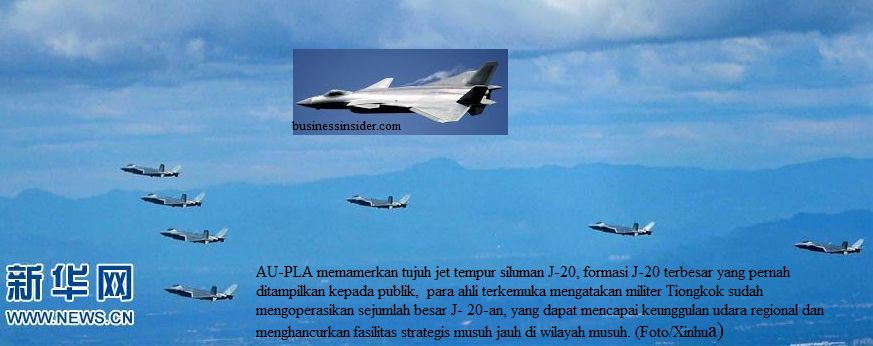J20: (295, 60, 505, 125), (162, 282, 241, 303), (793, 237, 865, 257), (138, 189, 208, 209), (344, 192, 413, 211), (159, 227, 230, 245), (586, 220, 657, 238), (119, 162, 184, 179)
